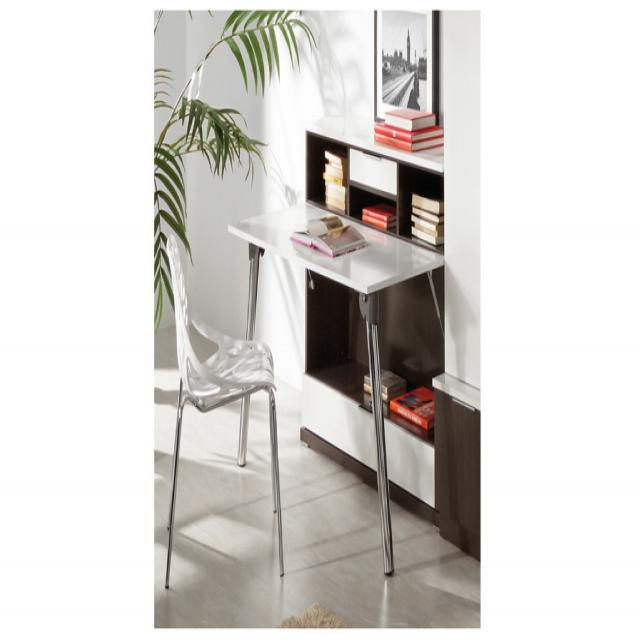chair: (162, 240, 284, 590)
desk: (227, 198, 447, 572)
